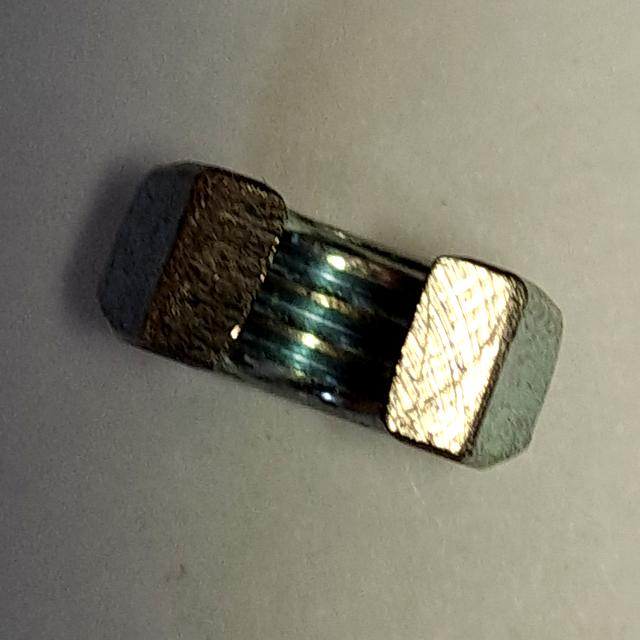Side-Fracture: (83, 147, 581, 489)
